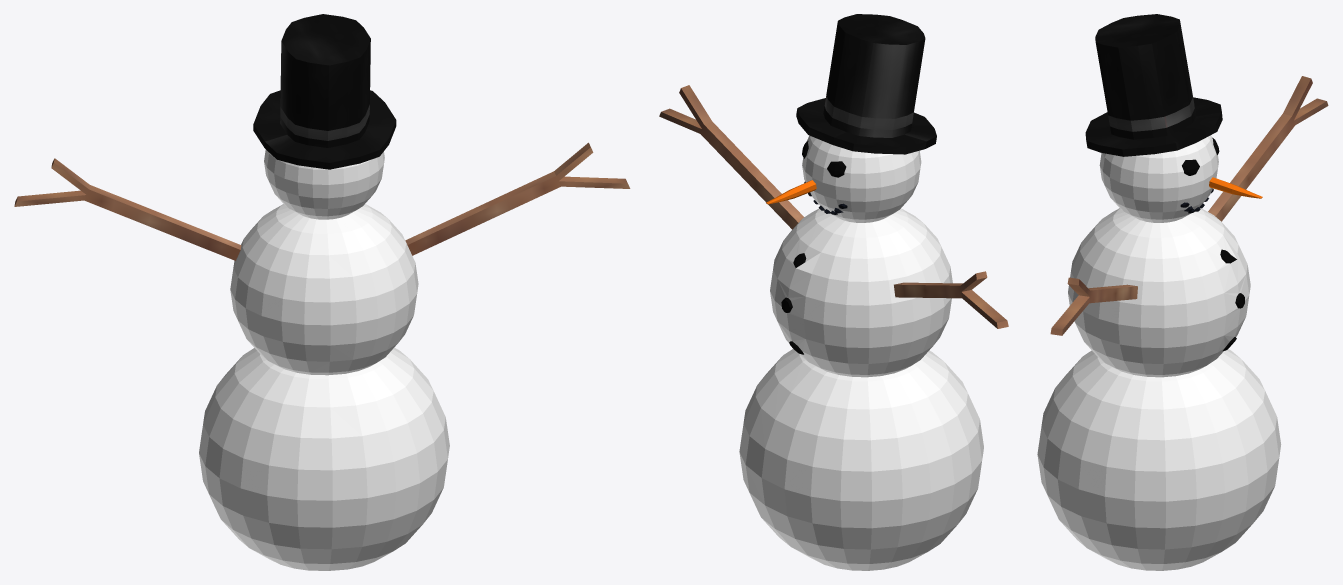
File: SNOWMAN HAT.fbx
3 views of the same model, side by side, from view 1: azimuth 30°, elevation 25°; view 2: azimuth 150°, elevation 25°; view 3: azimuth 270°, elevation 25° (orthographic).
Parts seen in each view (by area): view 1: SNOWMAN_HAT; view 2: SNOWMAN_HAT; view 3: SNOWMAN_HAT.
Boxes of the visible parts, x1=… form: SNOWMAN_HAT: x1=14, y1=14, x2=630, y2=570; SNOWMAN_HAT: x1=659, y1=14, x2=1008, y2=570; SNOWMAN_HAT: x1=1037, y1=14, x2=1328, y2=570.
Bounding box in the file's own units: 27.36 × 29.05 × 14.44.
